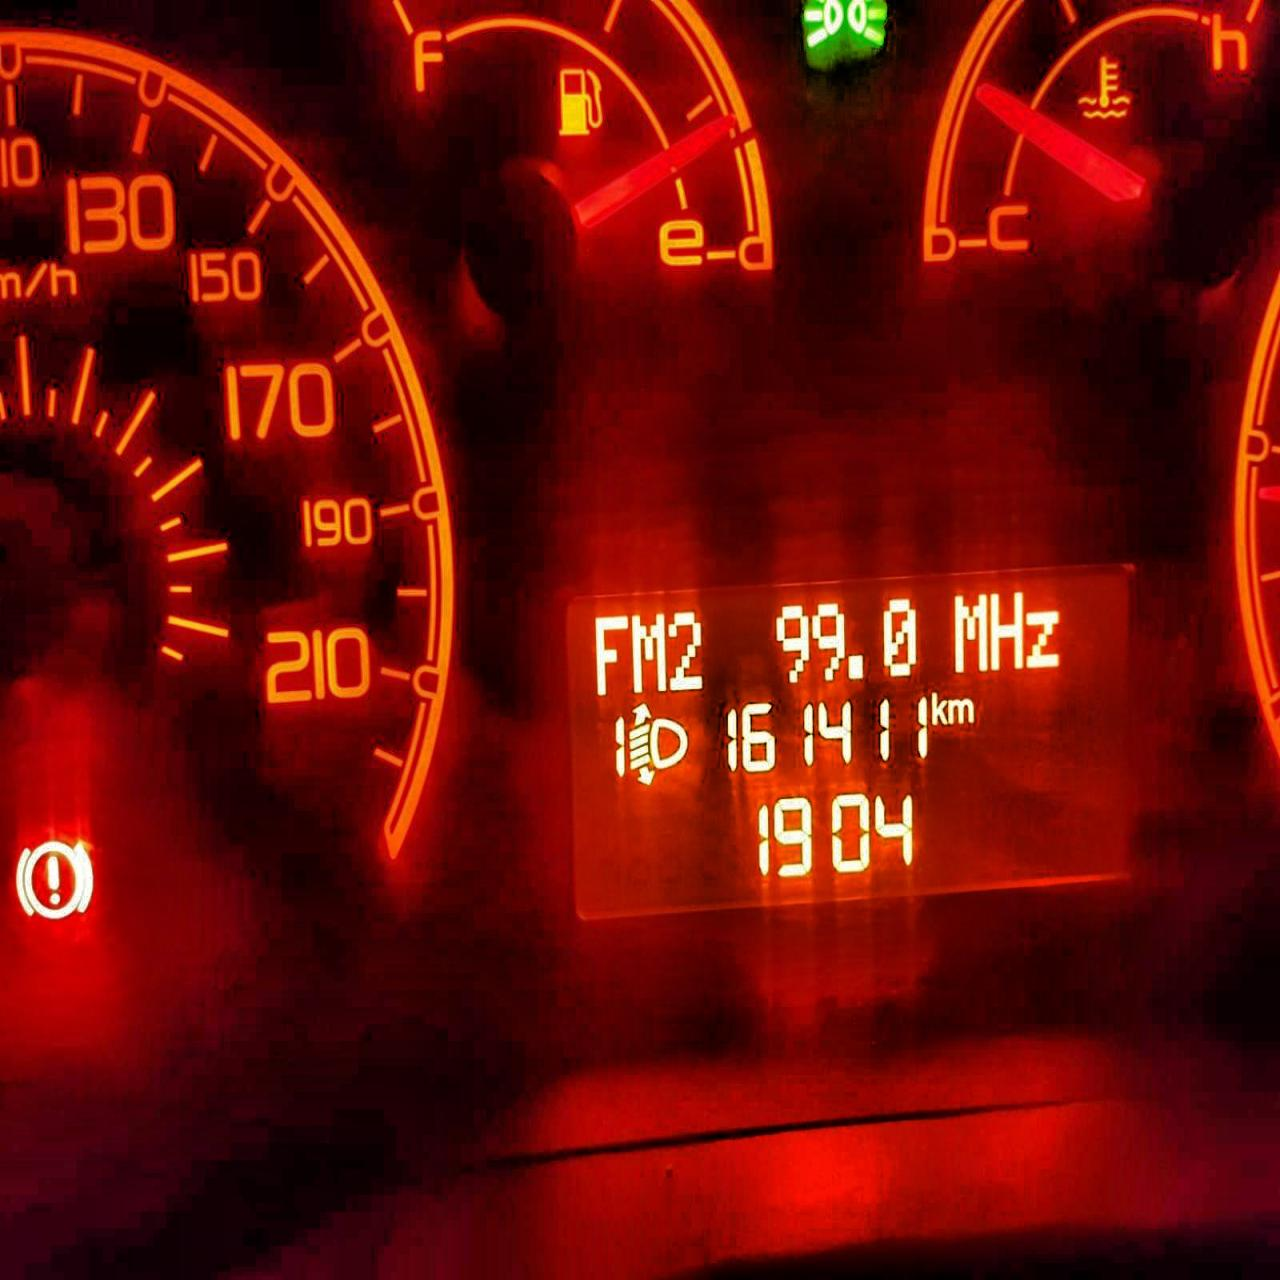-: (846, 647, 867, 681)
0: (824, 788, 871, 873), (879, 593, 921, 681)
1: (753, 794, 772, 885), (721, 701, 742, 774), (874, 693, 892, 765), (611, 708, 626, 787), (801, 695, 816, 770), (915, 694, 931, 763)
2: (668, 606, 707, 692)
4: (876, 790, 918, 869), (818, 696, 856, 765)
6: (742, 697, 778, 774)
9: (772, 790, 815, 884), (810, 598, 845, 685), (774, 600, 810, 683)
X: (628, 607, 669, 695), (987, 587, 1026, 674), (592, 610, 628, 697), (952, 591, 989, 673), (1026, 605, 1062, 670), (946, 694, 975, 726), (927, 687, 948, 728)
odometer: (556, 559, 1144, 930)
